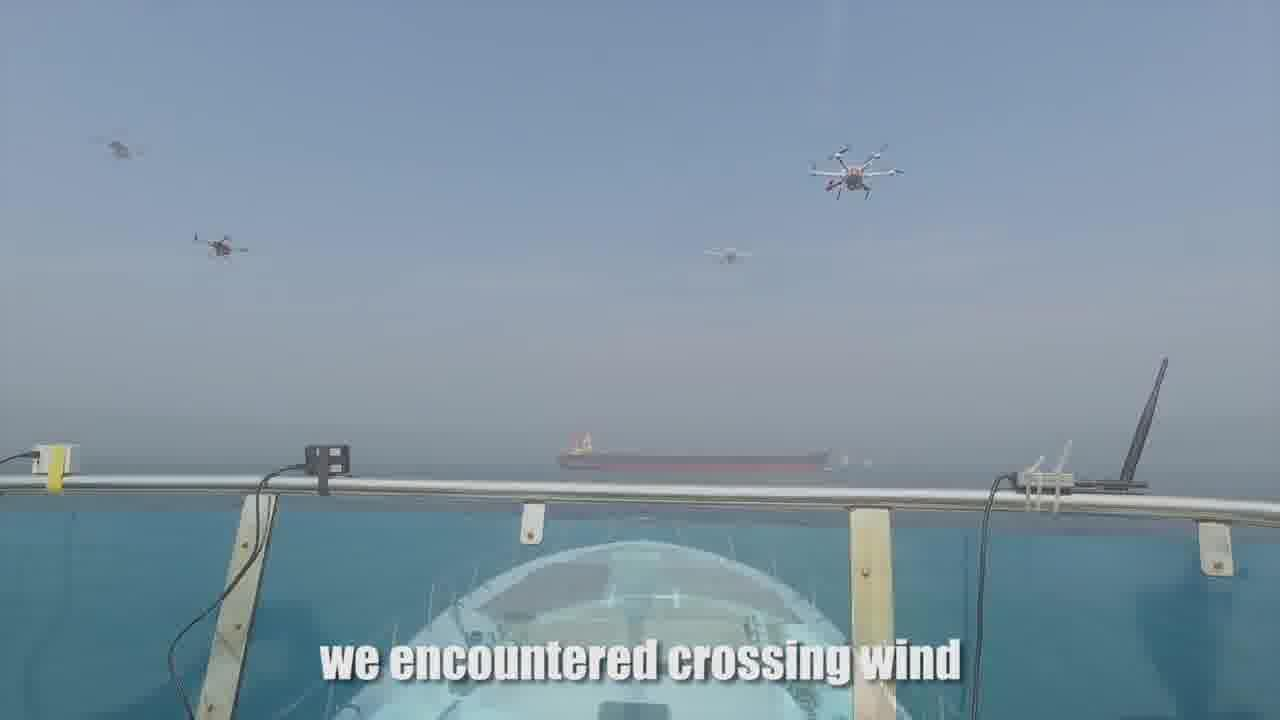drone: (799, 134, 916, 209), (187, 228, 260, 270)
